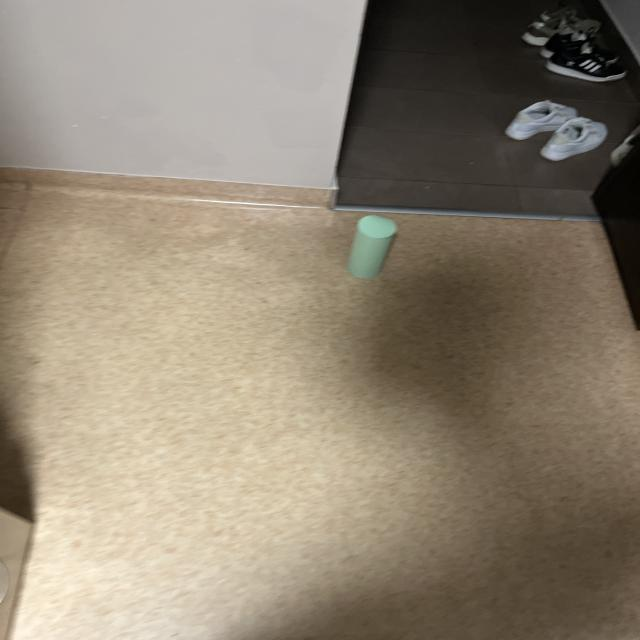meta: (347, 216, 397, 279)
